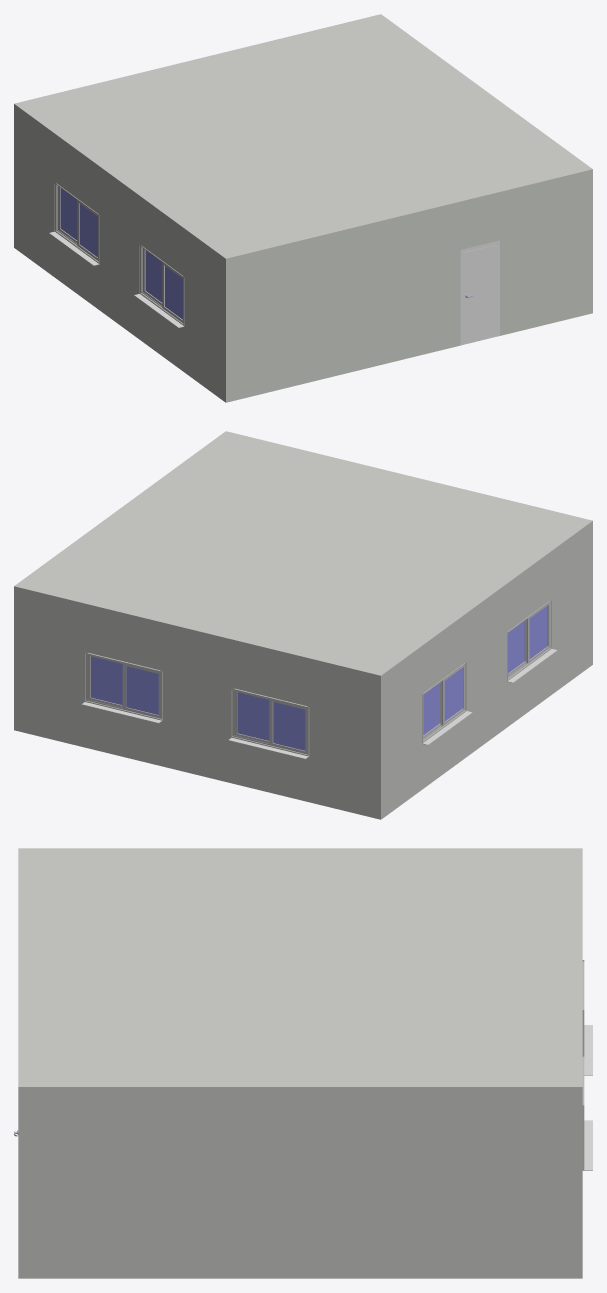
Rendered from telpa.fbx.
3 views of the same model, one above another, from view 1: azimuth 30°, elevation 25°; view 2: azimuth 150°, elevation 25°; view 3: azimuth 270°, elevation 25° (orthographic). The views are drawn at different scales.
Parts seen in each view (by area): view 1: Cube.001, Door, Window.L, Window.L.001, DoorFrame, Window.R, Window.R.001; view 2: Cube.001, Window.L.002, Window.L.003, Window.R.002, Window.R.003, Window.L, Window.L.001, Window.R, Window.R.001, WindowFrame.002, WindowFrame.003; view 3: Cube.001.
Boxes of the visible parts, x1,y1,x2,y2 form: Cube.001: (14,14,592,402); Door: (464,244,496,344); Window.L: (77,200,98,260); Window.L.001: (162,262,183,322); DoorFrame: (460,240,499,345); Window.R: (58,186,77,243); Window.R.001: (143,248,162,305); Cube.001: (14,431,592,819); Window.L.002: (269,699,307,754); Window.L.003: (122,663,160,718); Window.R.002: (234,690,269,743); Window.R.003: (88,654,122,707); Window.L: (441,664,464,726); Window.L.001: (526,602,549,663); Window.R: (423,682,441,738); Window.R.001: (508,620,526,676); WindowFrame.002: (231,688,309,756); WindowFrame.003: (85,652,162,720); Cube.001: (18,848,582,1278).
Size of the model in its own units: 813 by 300 by 821.
